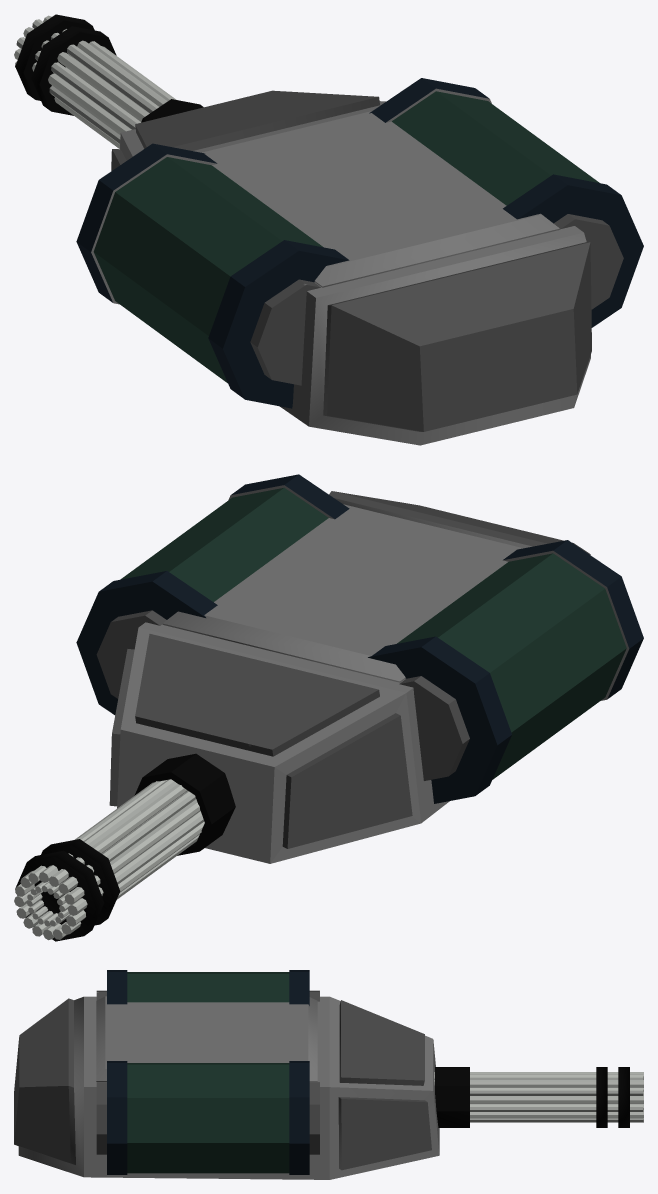
The model's file is Gun4.fbx.
3 renders of one model, top to bottom at view 1: azimuth 30°, elevation 25°; view 2: azimuth 150°, elevation 25°; view 3: azimuth 270°, elevation 25°, orthographic. The views are drawn at different scales.
Parts seen in each view (by area): view 1: Cube.004; view 2: Cube.004; view 3: Cube.004.
Boxes of the visible parts, x1=… form: Cube.004: x1=14, y1=14, x2=643, y2=445; Cube.004: x1=14, y1=474, x2=643, y2=941; Cube.004: x1=14, y1=970, x2=643, y2=1179.
Size of the model in its own units: 166 by 61.11 by 311.
Materials: 1 (1 with a texture image).
